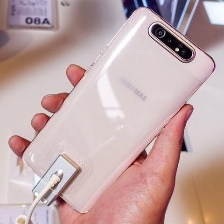phone: (18, 2, 218, 216)
